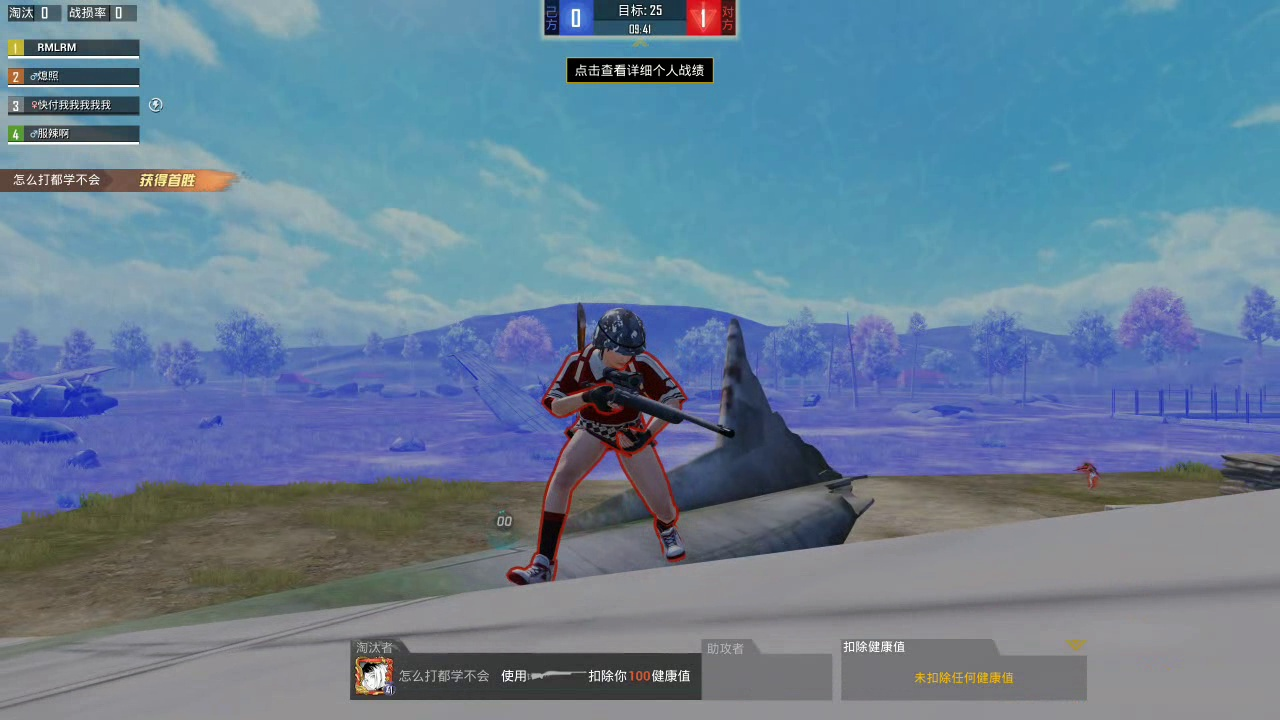enemy: (523, 309, 691, 569), (1076, 457, 1103, 492)
